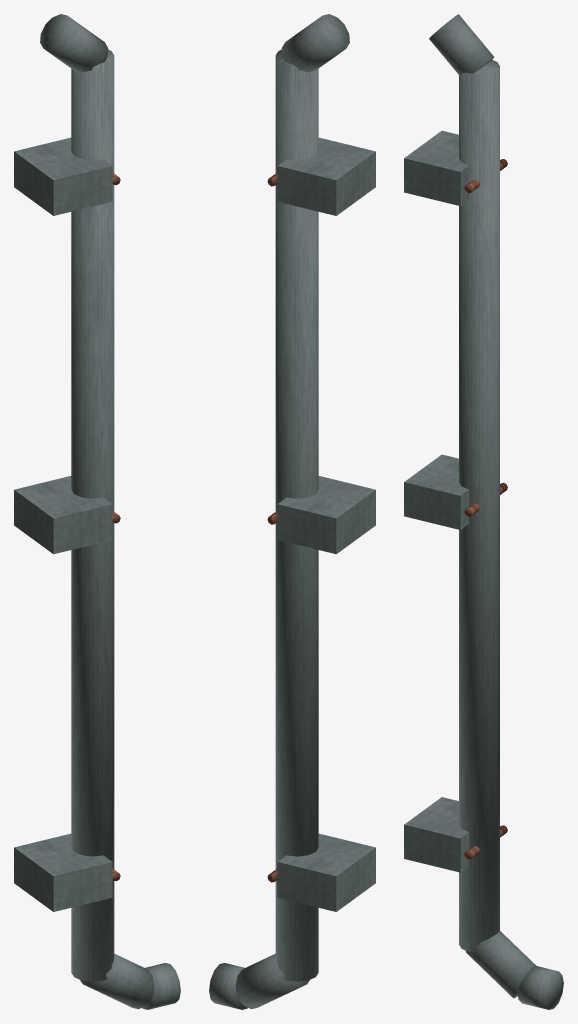
Rendered from PZ_Alley_Downpipe_3p3M.glb.
The picture shows the model from 3 angles, left to right: view 1: azimuth 30°, elevation 25°; view 2: azimuth 150°, elevation 25°; view 3: azimuth 330°, elevation 25°; orthographic projection. The views are drawn at different scales.
Parts seen in each view (by area): view 1: Downpipe_MainVertical, Downpipe_WallBracket_2, Downpipe_WallBracket_1, Downpipe_WallBracket_3, Downpipe_UpperOffset, Downpipe_LowerElbow, Downpipe_Outlet; view 2: Downpipe_MainVertical, Downpipe_WallBracket_2, Downpipe_WallBracket_1, Downpipe_WallBracket_3, Downpipe_UpperOffset, Downpipe_LowerElbow, Downpipe_Outlet; view 3: Downpipe_MainVertical, Downpipe_WallBracket_1, Downpipe_WallBracket_2, Downpipe_WallBracket_3, Downpipe_LowerElbow, Downpipe_UpperOffset, Downpipe_Outlet.
Part boxes in pixels (x1,y1,x2,y2): Downpipe_MainVertical: (71,50,114,981); Downpipe_WallBracket_2: (14,476,112,554); Downpipe_WallBracket_1: (14,833,112,911); Downpipe_WallBracket_3: (14,137,112,215); Downpipe_UpperOffset: (40,14,108,72); Downpipe_LowerElbow: (80,953,154,1009); Downpipe_Outlet: (142,963,180,1009); Downpipe_MainVertical: (275,50,318,981); Downpipe_WallBracket_2: (277,476,375,554); Downpipe_WallBracket_1: (277,833,375,911); Downpipe_WallBracket_3: (277,137,375,215); Downpipe_UpperOffset: (281,14,349,72); Downpipe_LowerElbow: (235,953,309,1009); Downpipe_Outlet: (209,963,247,1009); Downpipe_MainVertical: (459,60,499,952); Downpipe_WallBracket_1: (404,797,469,872); Downpipe_WallBracket_2: (404,454,469,529); Downpipe_WallBracket_3: (404,130,469,206); Downpipe_LowerElbow: (466,931,536,998); Downpipe_UpperOffset: (429,14,493,75); Downpipe_Outlet: (517,966,563,1009).
Bounding box in the file's own units: 0.44 × 3.11 × 0.22.
Materials: 2 (2 with a texture image).
